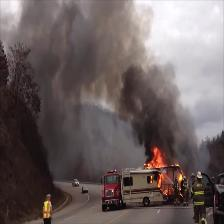fire: (153, 148, 165, 168)
smoke: (26, 1, 149, 91), (124, 95, 199, 147)
